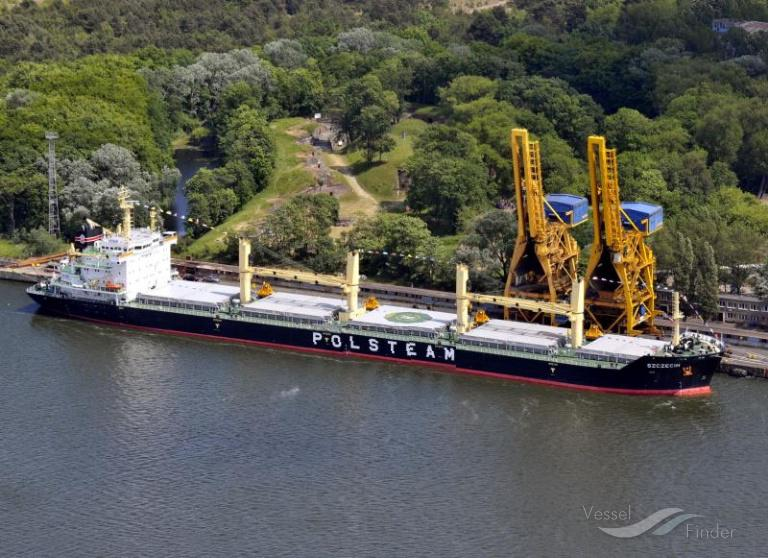OCR: (306, 326, 456, 372)
